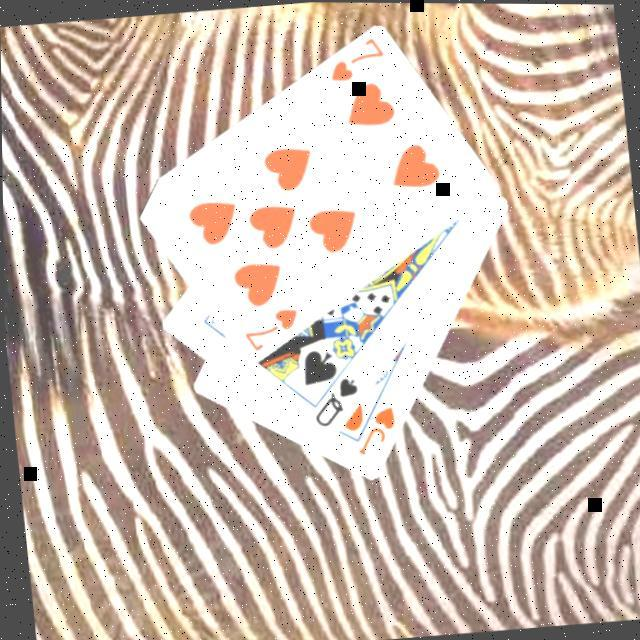7H: (325, 34, 392, 87), (238, 305, 305, 357)
JH: (351, 404, 403, 460)
QS: (307, 375, 365, 433)
